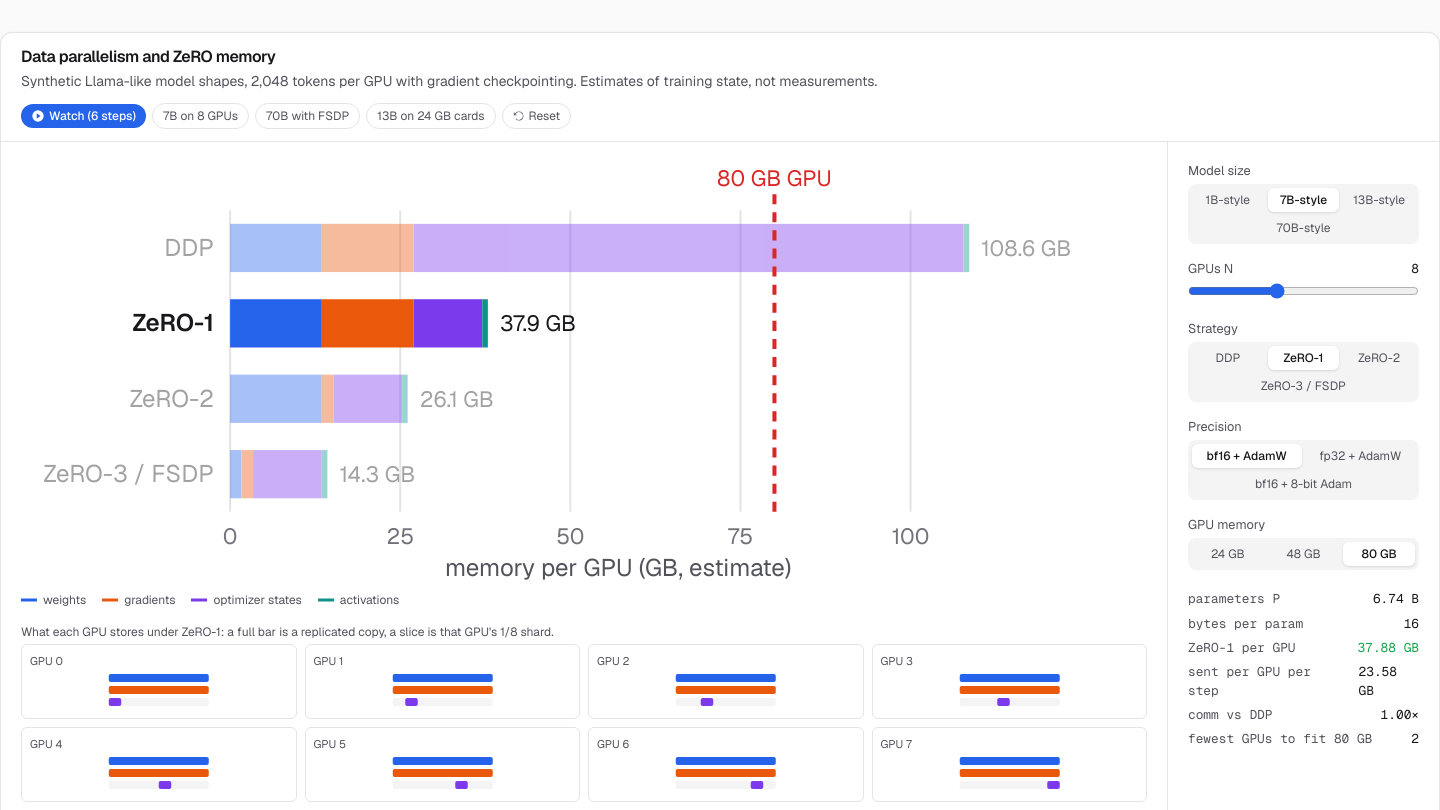
Scenario: ZeRO lab renders › shows the default and reacts to a preset
expect the text "37.88 GB" is shown: met, box [1358,639,1419,657]
Click the button "70B with FSDP" at point(308, 116), box [255,103,360,129]
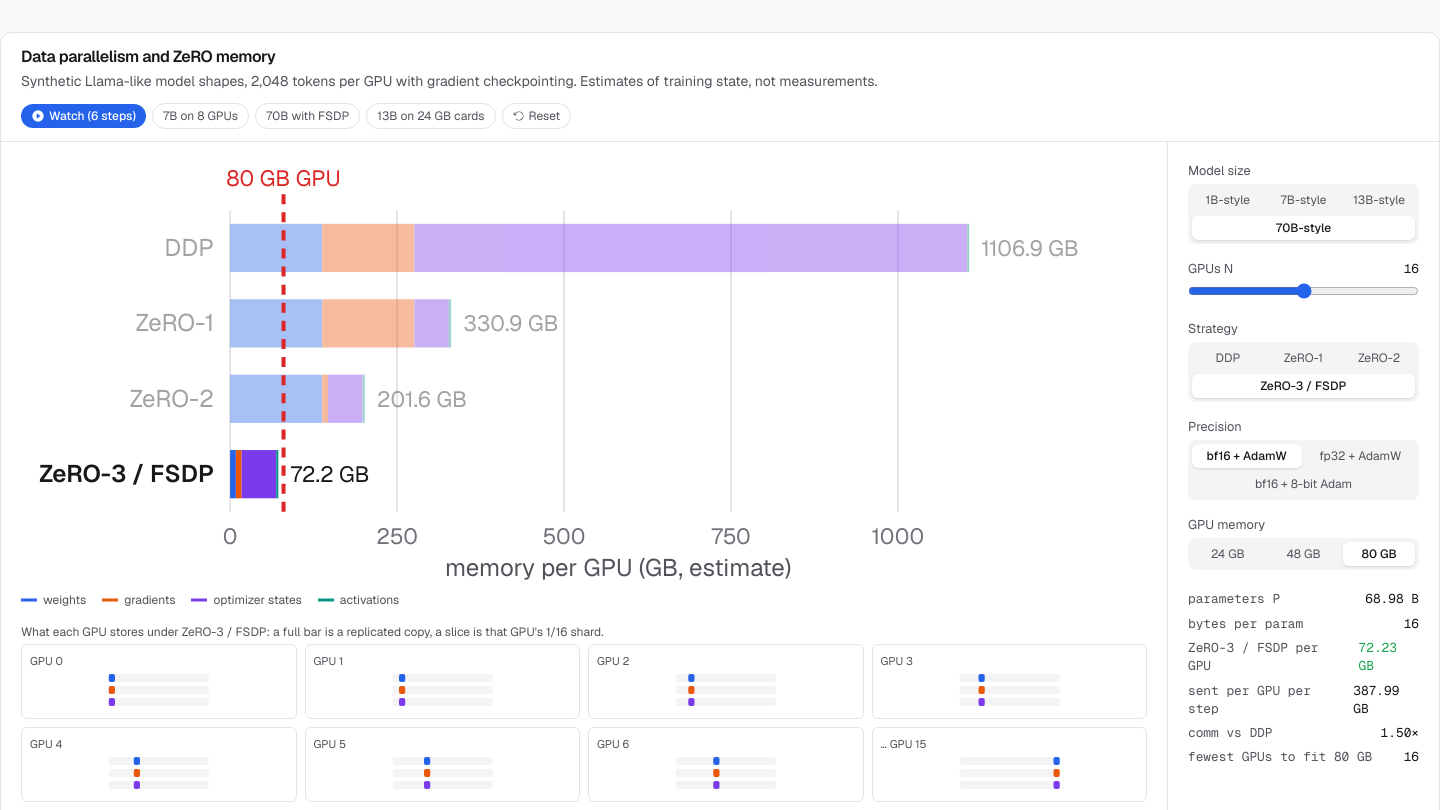
expect the text "72.23 GB" is shown: met, box [1359,639,1397,674]
